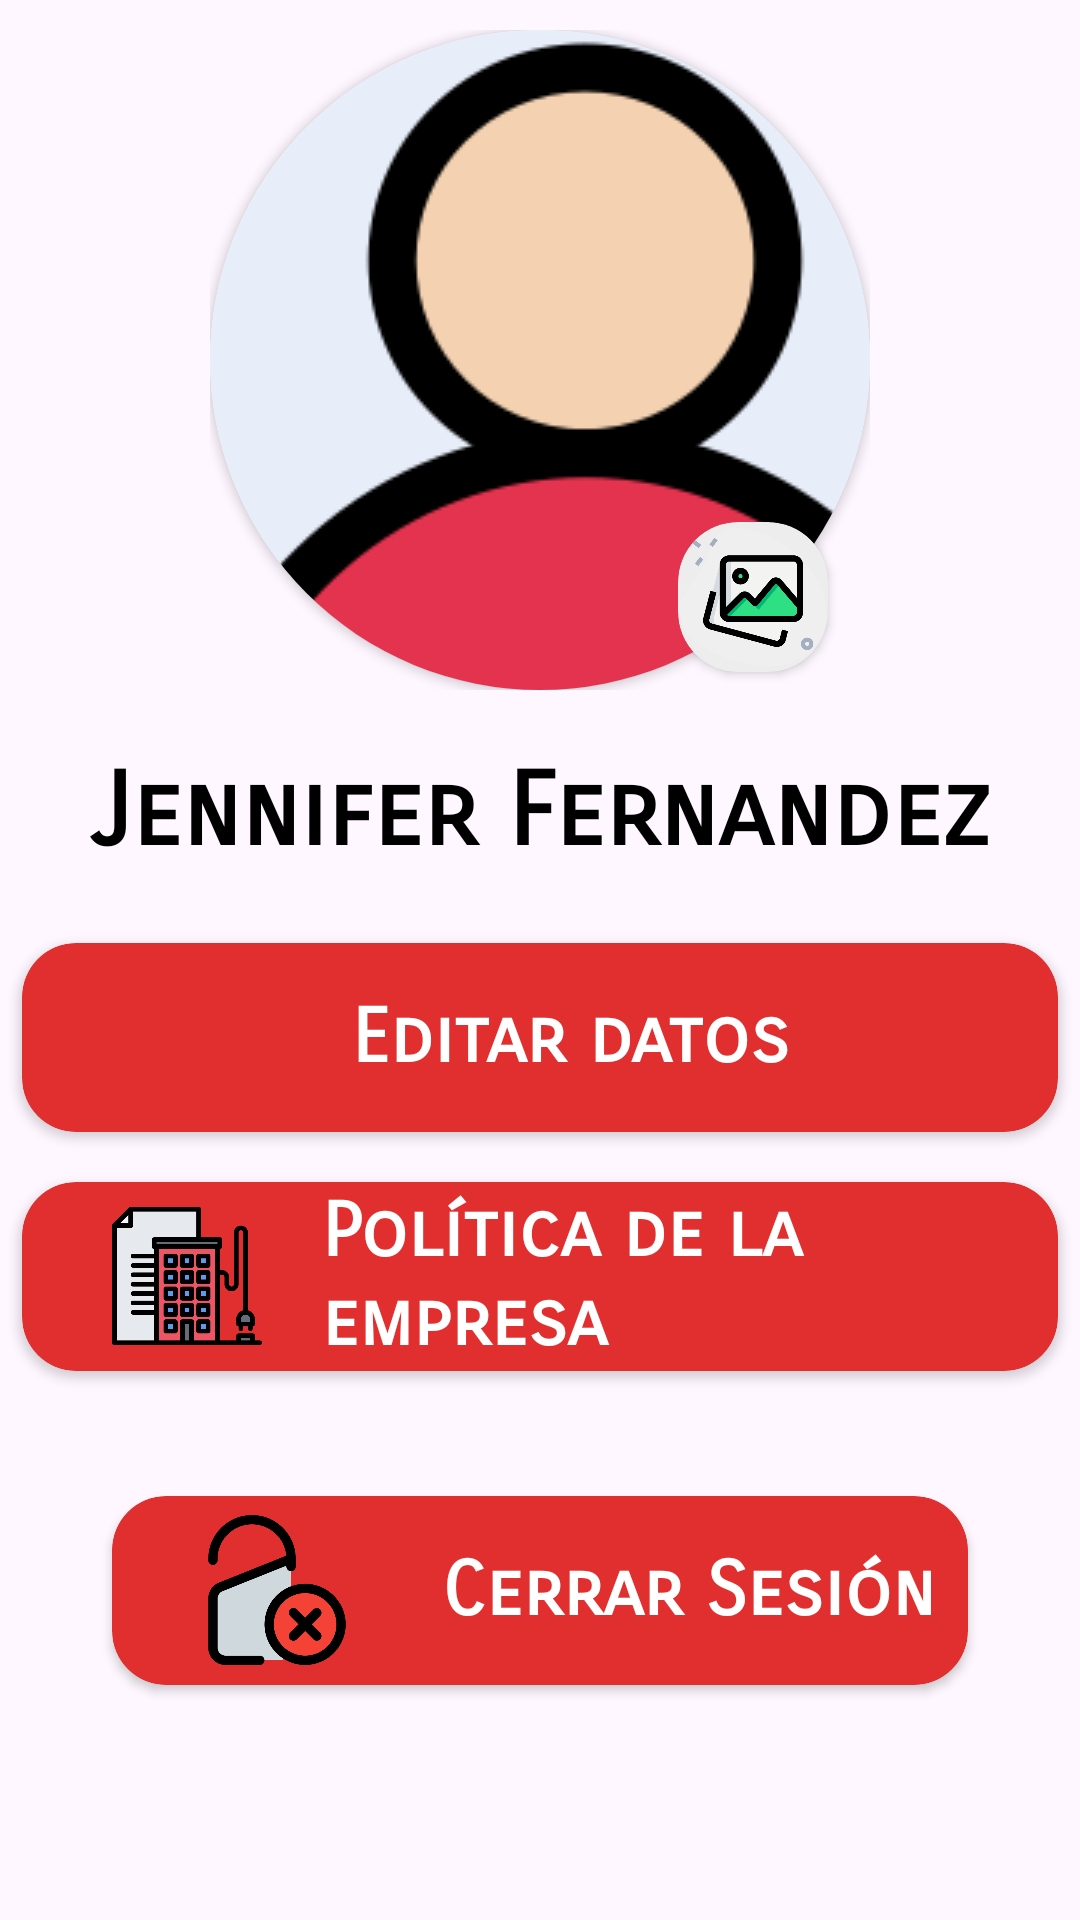

Icons on this 1080w x 1920h Android screen, each with the point to tap as [x,y]:
custom cerrar: [277,1590]
custom polit: [187,1276]
